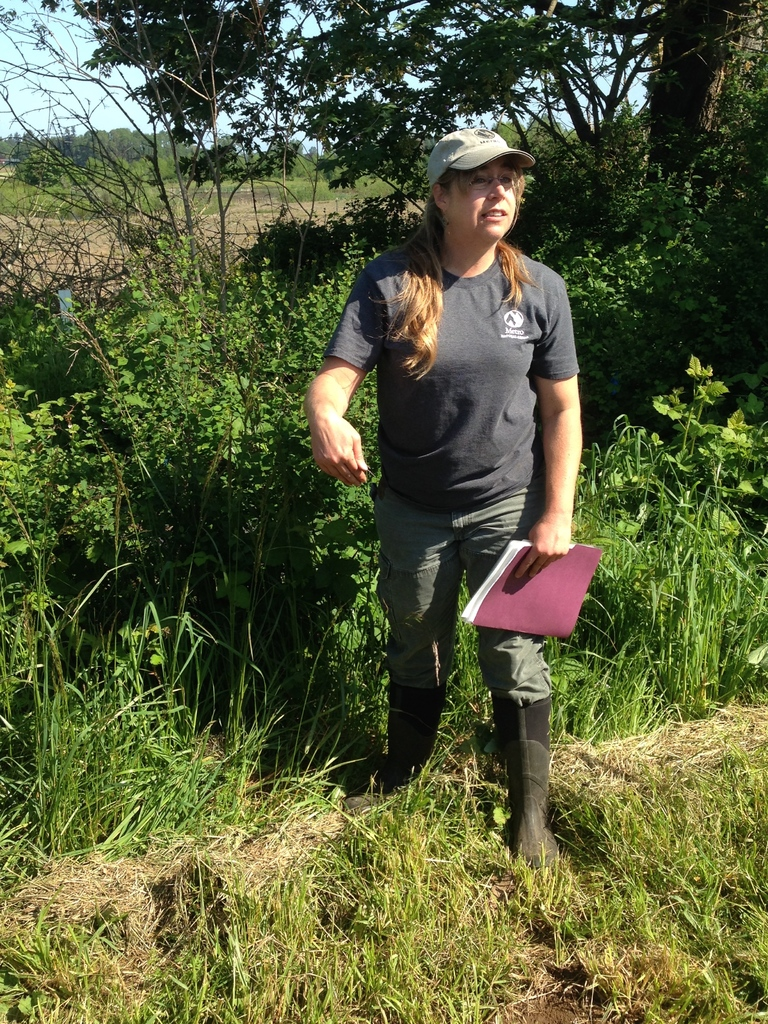Human_hand: (515, 511, 570, 582), (314, 415, 364, 485)
